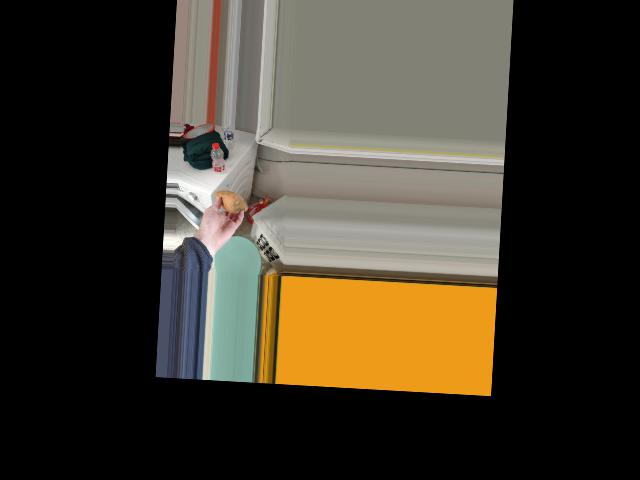sweet_potato: (215, 190, 244, 217)
